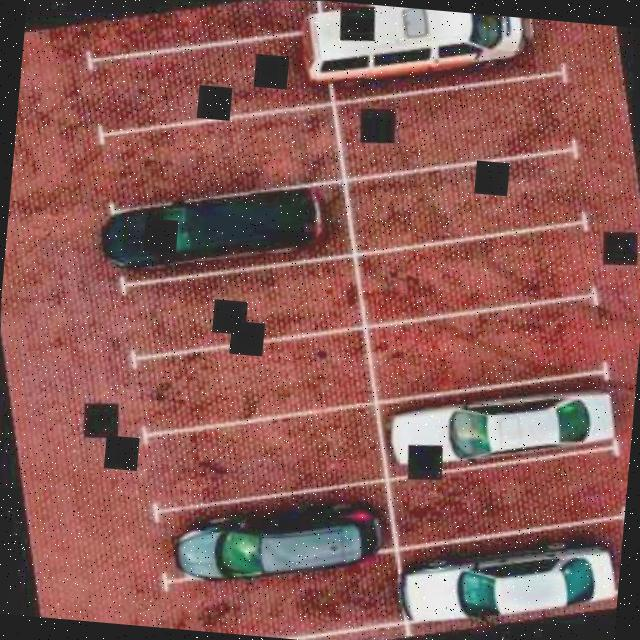space-empty: (326, 54, 576, 198), (351, 203, 594, 345), (362, 278, 604, 417), (140, 387, 378, 523), (124, 317, 370, 448), (92, 91, 334, 224), (388, 433, 630, 566), (338, 134, 578, 268), (116, 239, 350, 376), (85, 18, 318, 150), (166, 546, 392, 640), (71, 0, 300, 74)
space-occupied: (359, 344, 637, 506), (72, 151, 346, 305), (138, 470, 390, 618), (378, 504, 623, 640), (294, 0, 545, 114)
